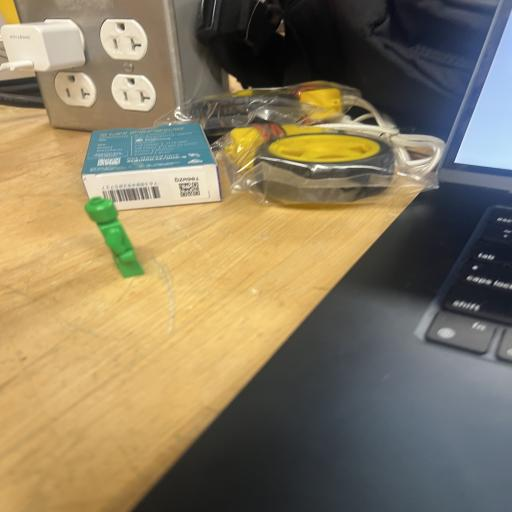green-lego-minifigure-detector: (85, 197, 144, 278)
